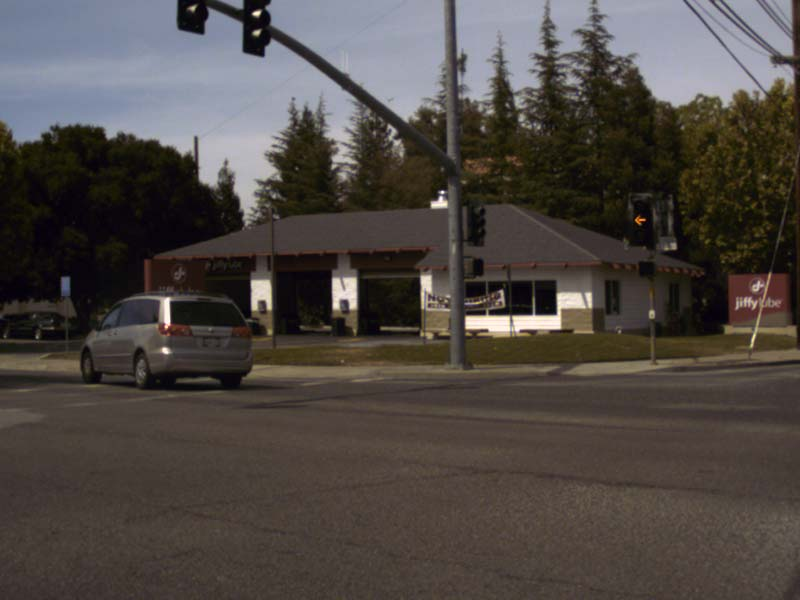Red: (633, 202, 648, 243), (468, 205, 483, 245)
